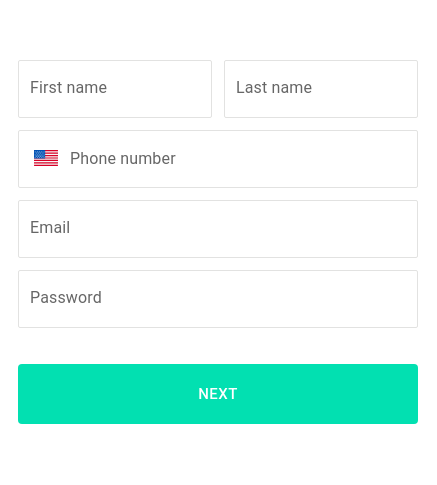
When Phone Number is Not Valid
Type "(032) 02 - 1706" into the field labelled "Phone number" at (238, 159), box top-left (58, 131), bottom-right (417, 187)
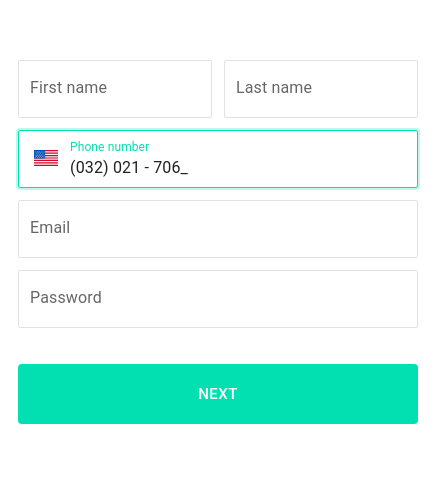
Click the button "NEXT" at (218, 394), box top-left (18, 364), bottom-right (418, 424)
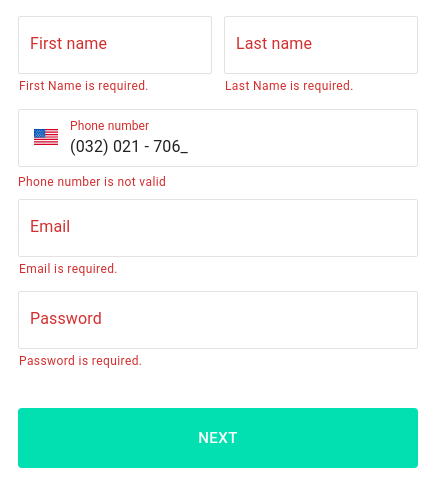
Expected: the text "Phone number is not valid" is shown, top-left (18, 175), bottom-right (166, 189)
